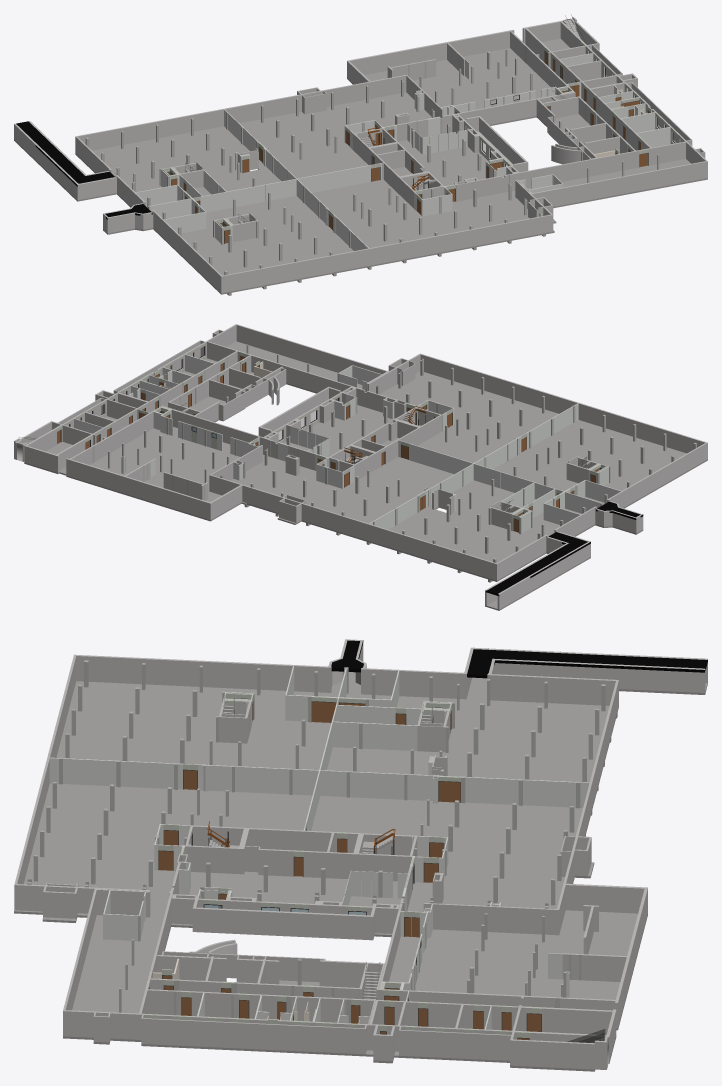
File: tib_ug1.glb
3 views of the same model, one above another, from view 1: azimuth 30°, elevation 25°; view 2: azimuth 150°, elevation 25°; view 3: azimuth 270°, elevation 25° (orthographic). The views are drawn at different scales.
Visible parts, largest first — view 1: tib_ug1__TIB Farbe 176-176-172, tib_ug1__Material_14; view 2: tib_ug1__TIB Farbe 176-176-172, tib_ug1__Material_14; view 3: tib_ug1__TIB Farbe 176-176-172, tib_ug1__Material_14.
Boxes of the visible parts, box(x1,y1,x2,y2) form: tib_ug1__TIB Farbe 176-176-172: box(14, 17, 707, 295); tib_ug1__Material_14: box(16, 121, 152, 219); tib_ug1__TIB Farbe 176-176-172: box(14, 324, 707, 610); tib_ug1__Material_14: box(486, 501, 643, 595); tib_ug1__TIB Farbe 176-176-172: box(14, 639, 707, 1071); tib_ug1__Material_14: box(331, 640, 707, 678).
Bounding box in the file's own units: 93.46 × 4.63 × 67.23.
3 materials, 3 textured.
